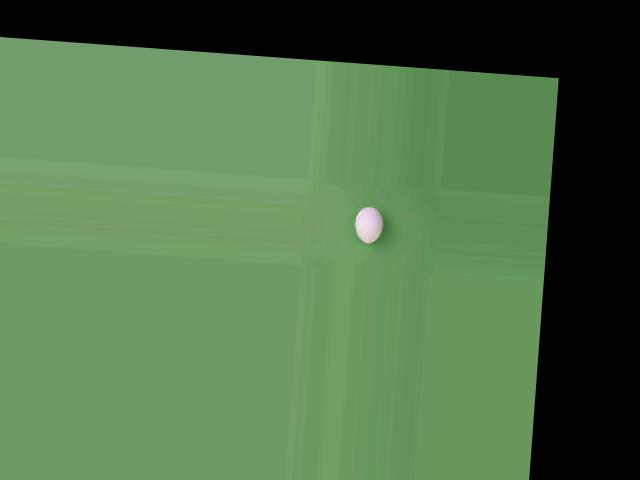egg: (353, 204, 384, 244)
